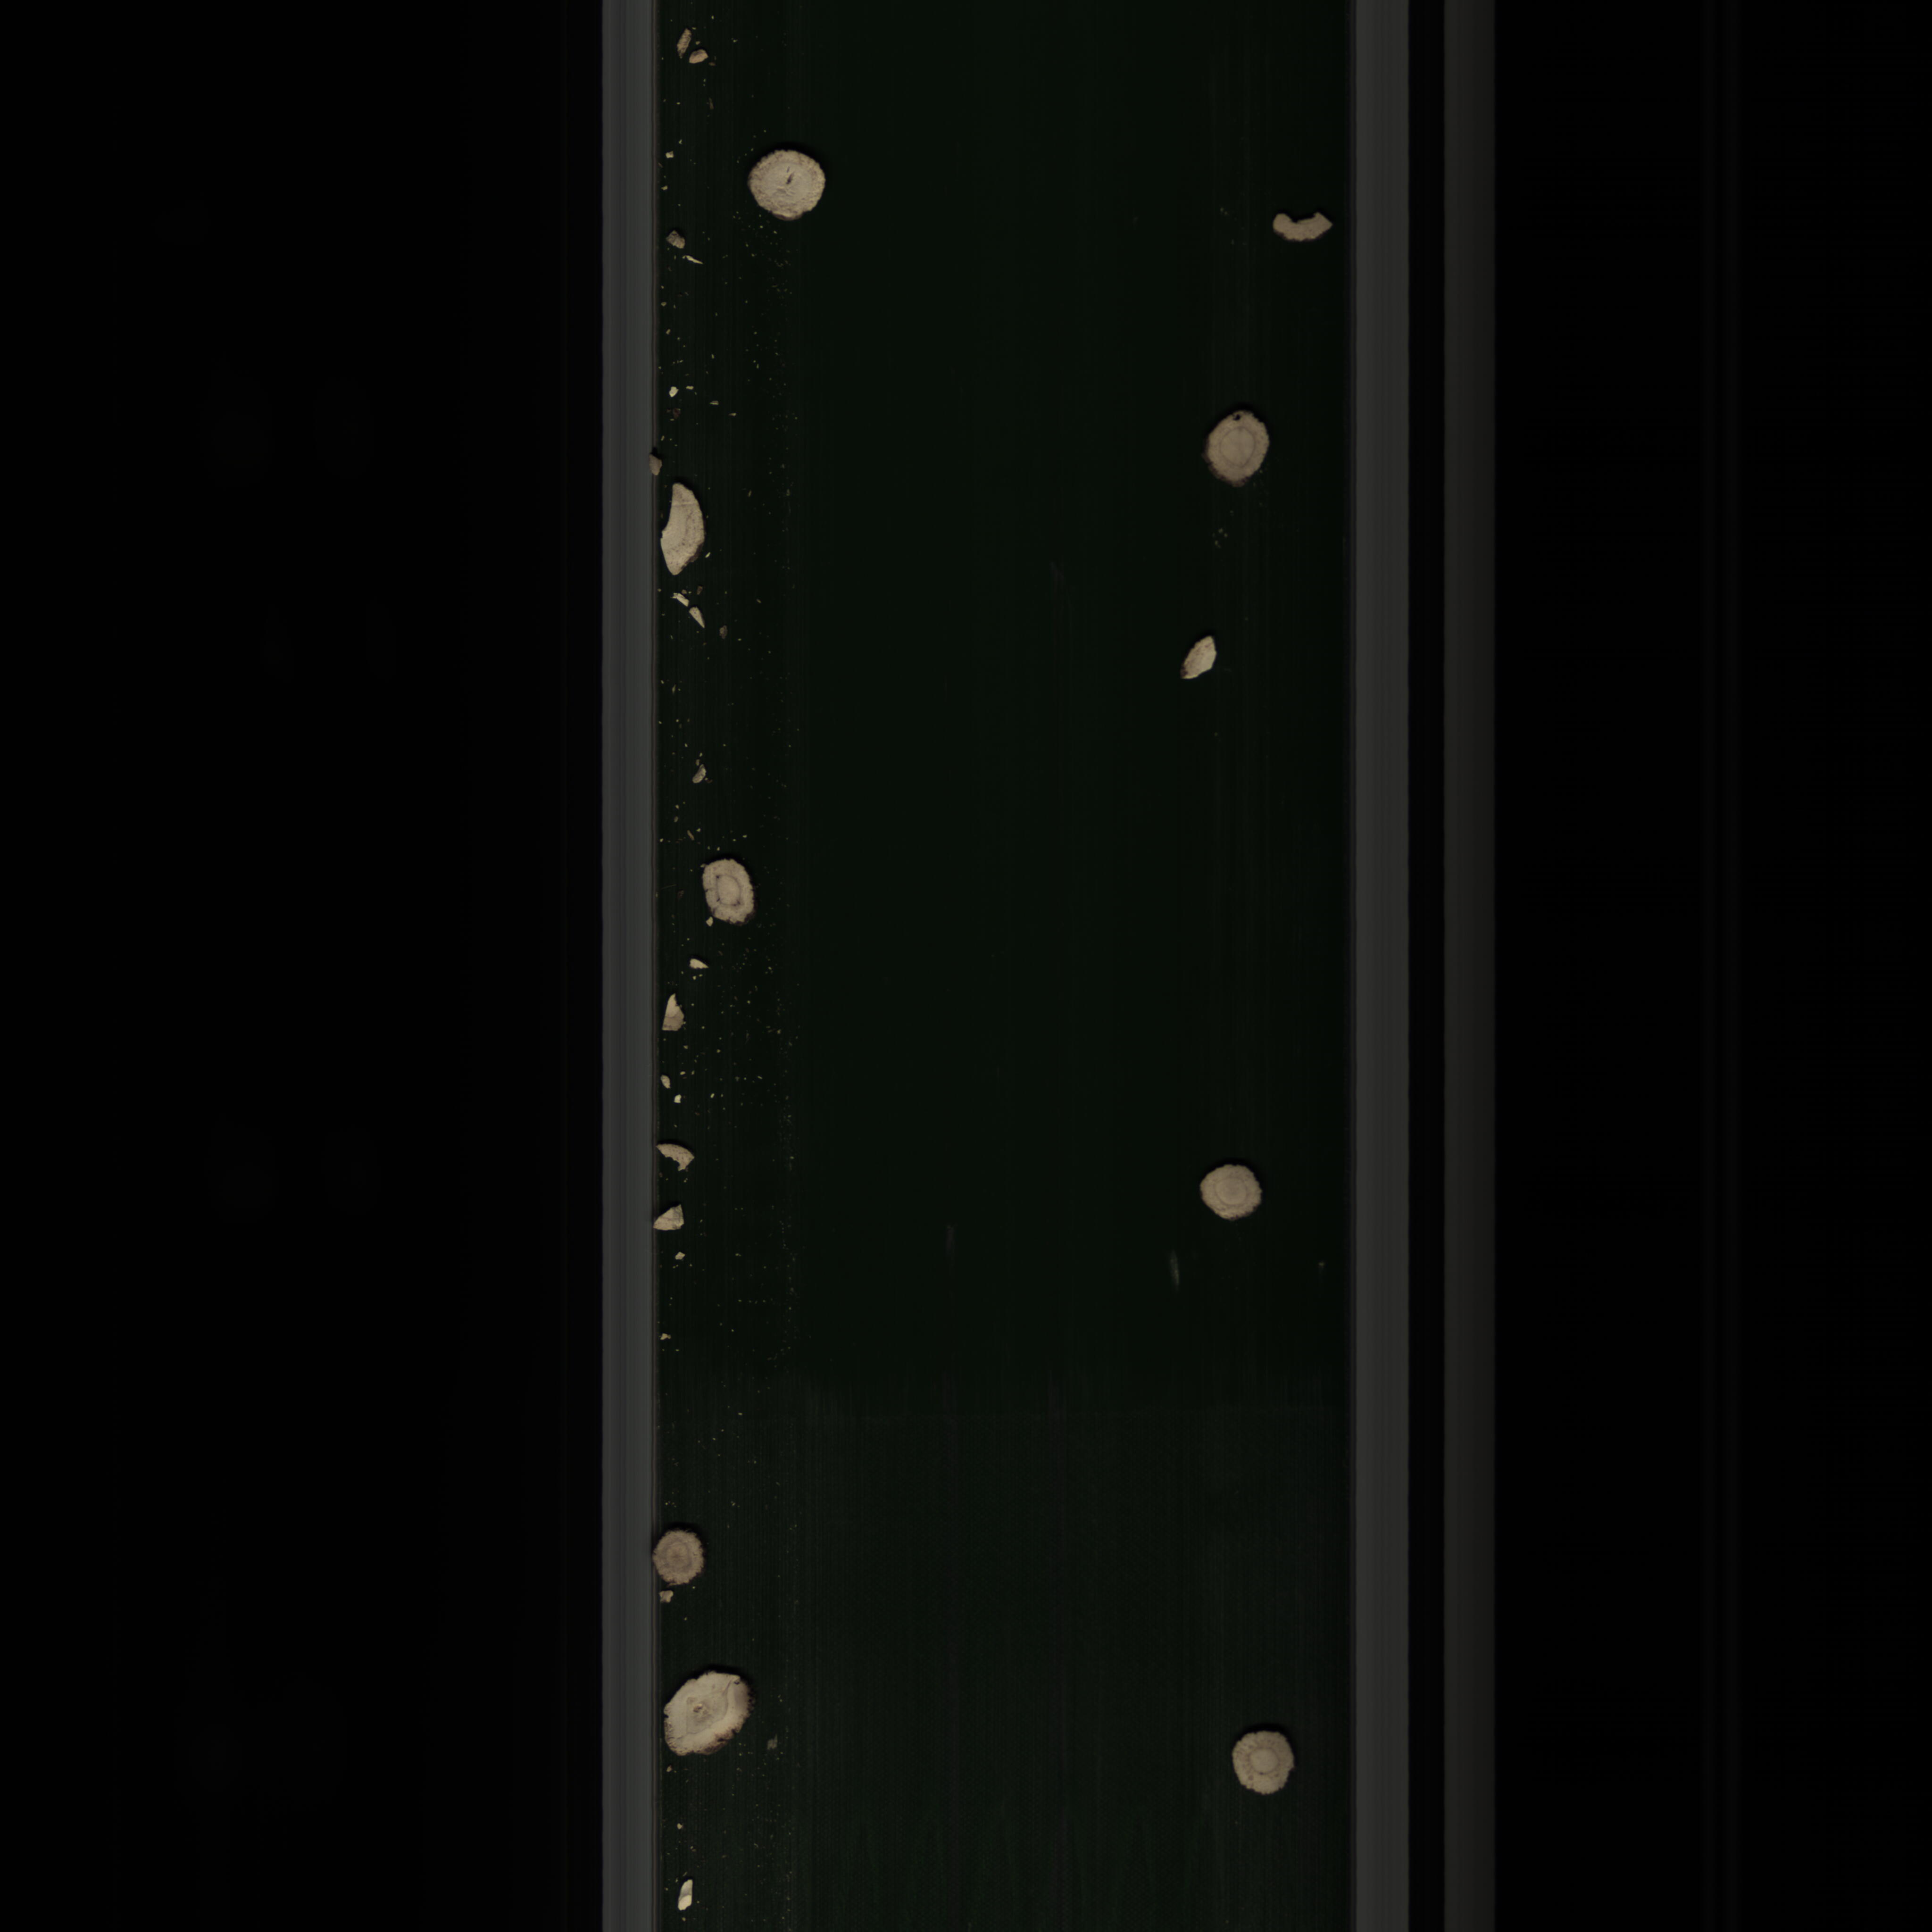debris: (656, 481, 720, 579), (1168, 628, 1233, 690), (1261, 209, 1341, 251), (662, 985, 699, 1039), (656, 1138, 702, 1178), (651, 1200, 690, 1237)
